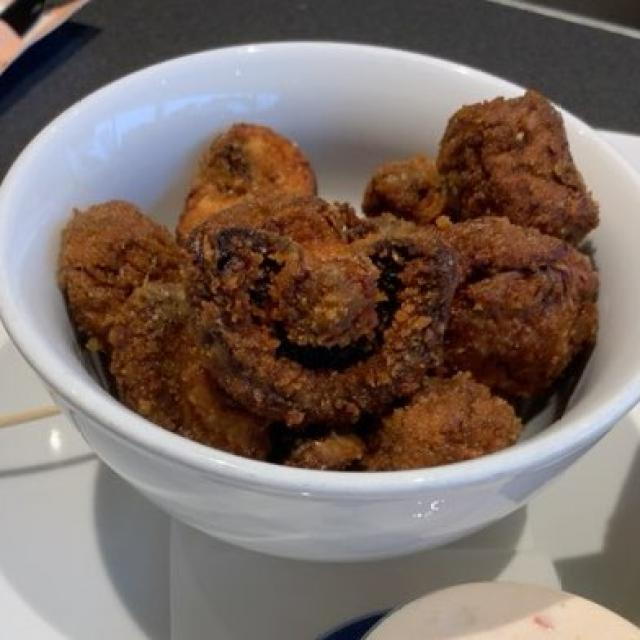breadcrumbs: (90, 113, 586, 452)
mushrooms: (68, 89, 599, 463)
